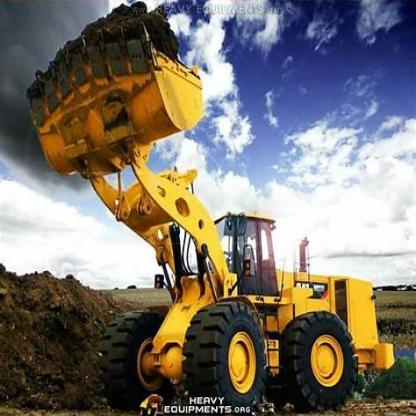bull_dozer/loader/grader: (18, 0, 394, 415)
